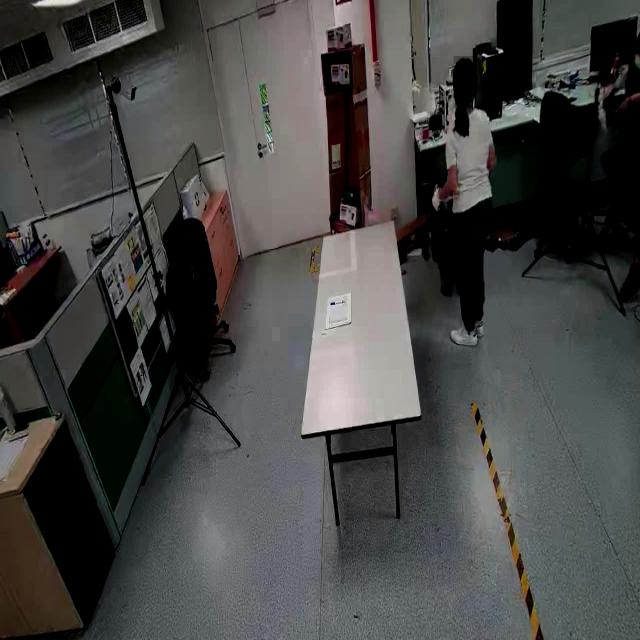hand_glove: (429, 184, 443, 219)
hand_noglove: (612, 94, 632, 126)
head_nohelmet: (453, 56, 475, 76)
person: (429, 53, 498, 362)
shoes: (446, 318, 481, 352), (467, 302, 487, 341)
